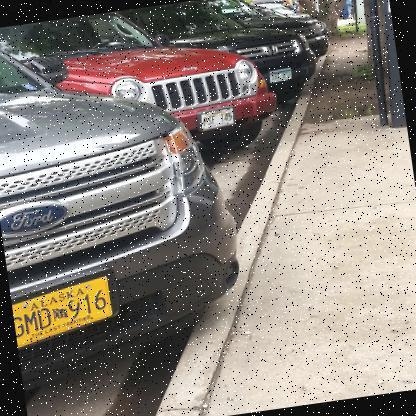License-Plate: (9, 269, 134, 356), (196, 106, 238, 132), (266, 66, 295, 85)
